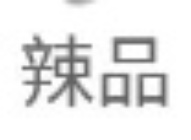TextView: (1, 1, 190, 139)
